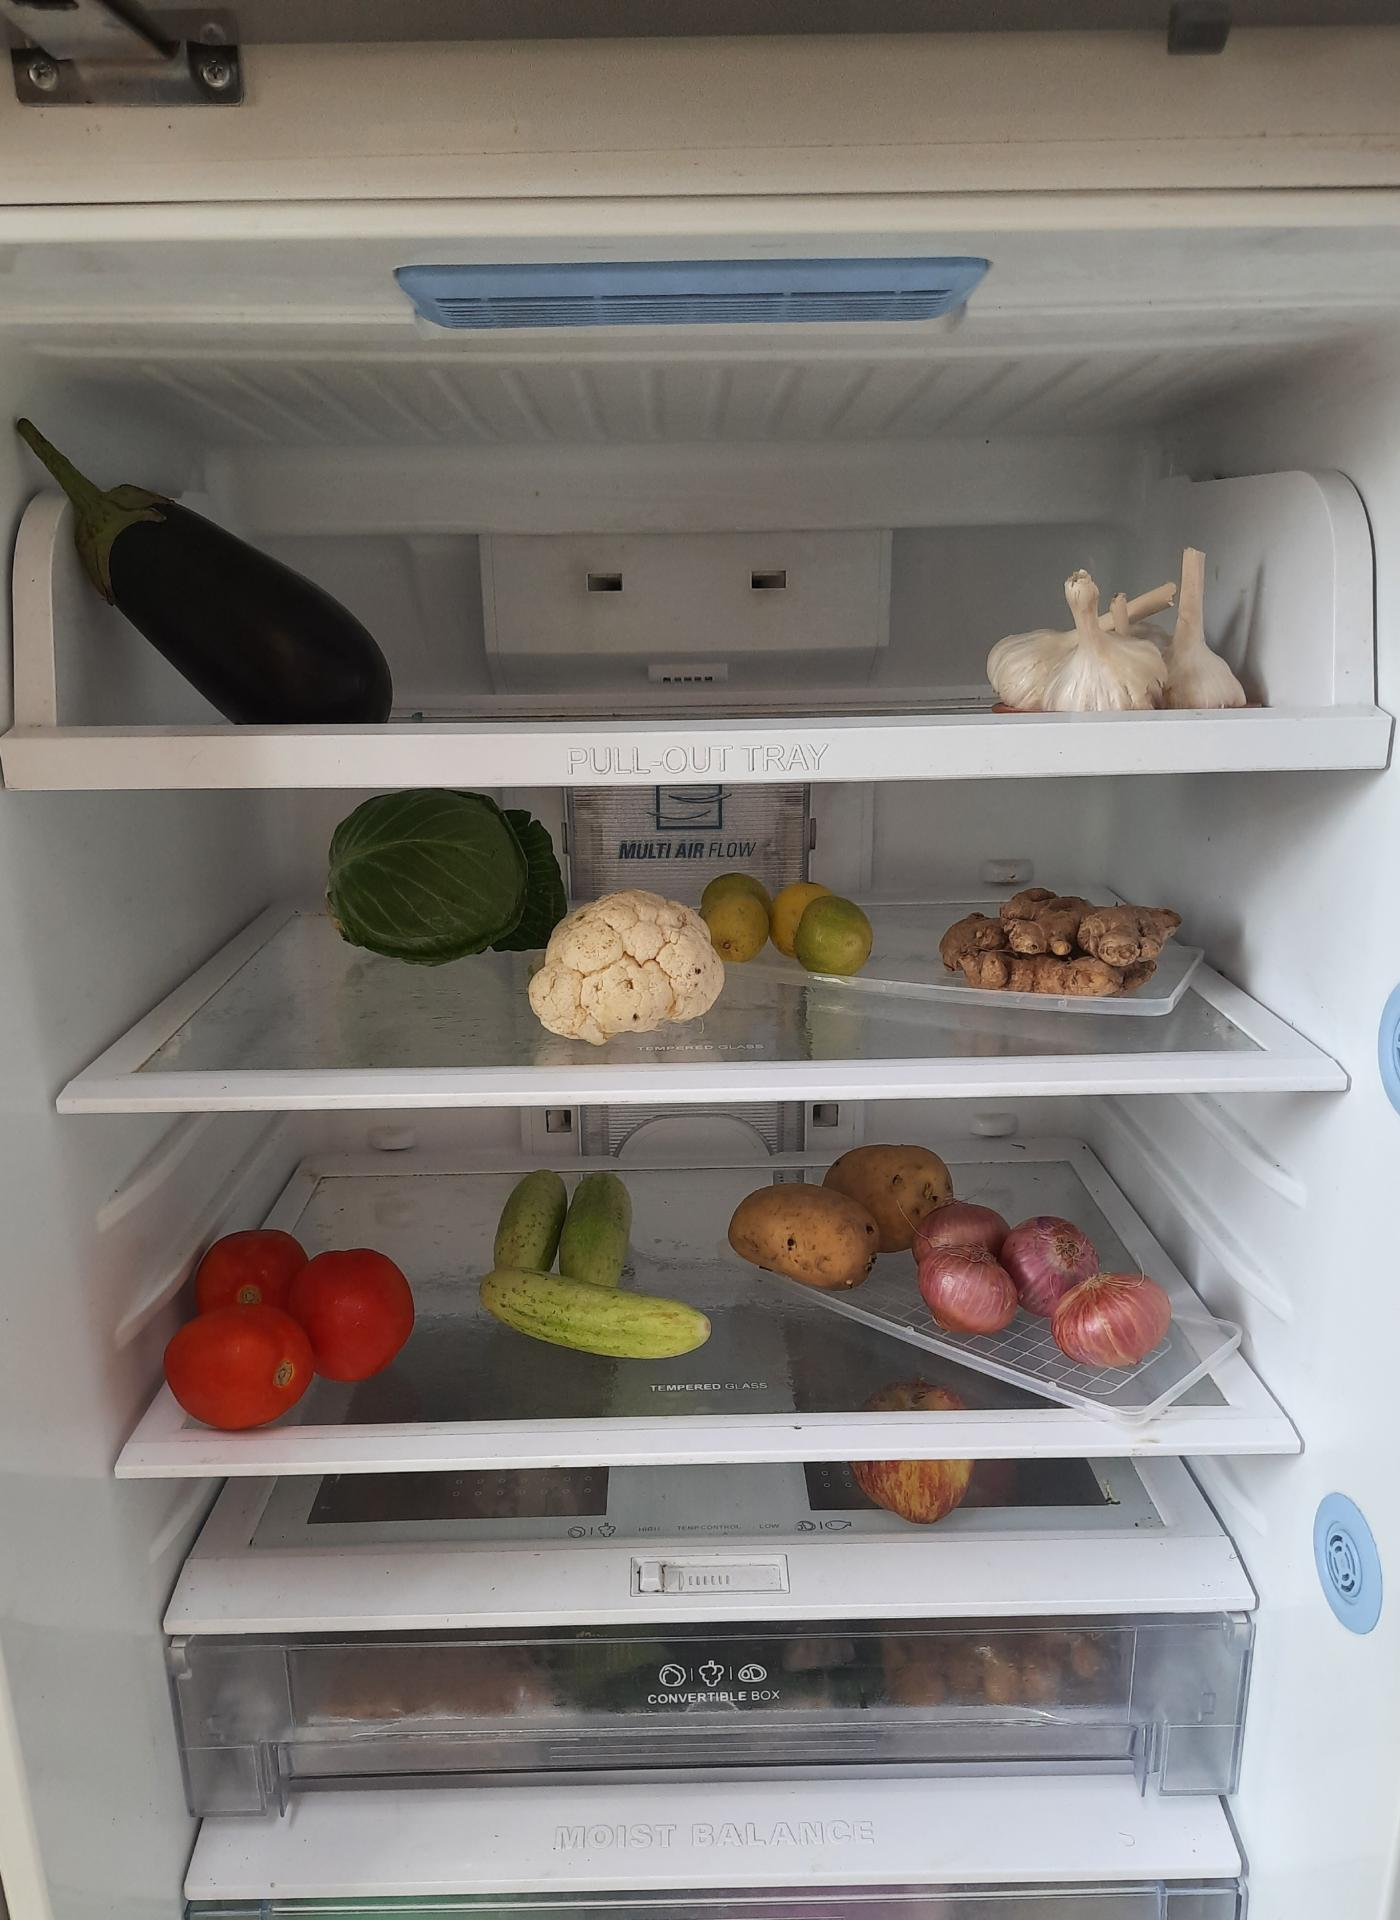apple: (856, 1373, 991, 1528)
brinjal: (21, 416, 406, 726)
cabbage: (327, 792, 571, 966)
cauliflower: (531, 899, 728, 1049)
cucumber: (479, 1161, 716, 1361)
garlic: (990, 549, 1269, 713)
ginger: (942, 884, 1184, 1000)
lemon: (702, 868, 877, 969)
onion: (912, 1197, 1182, 1374)
potato: (732, 1137, 962, 1295)
tomato: (167, 1225, 419, 1424)
